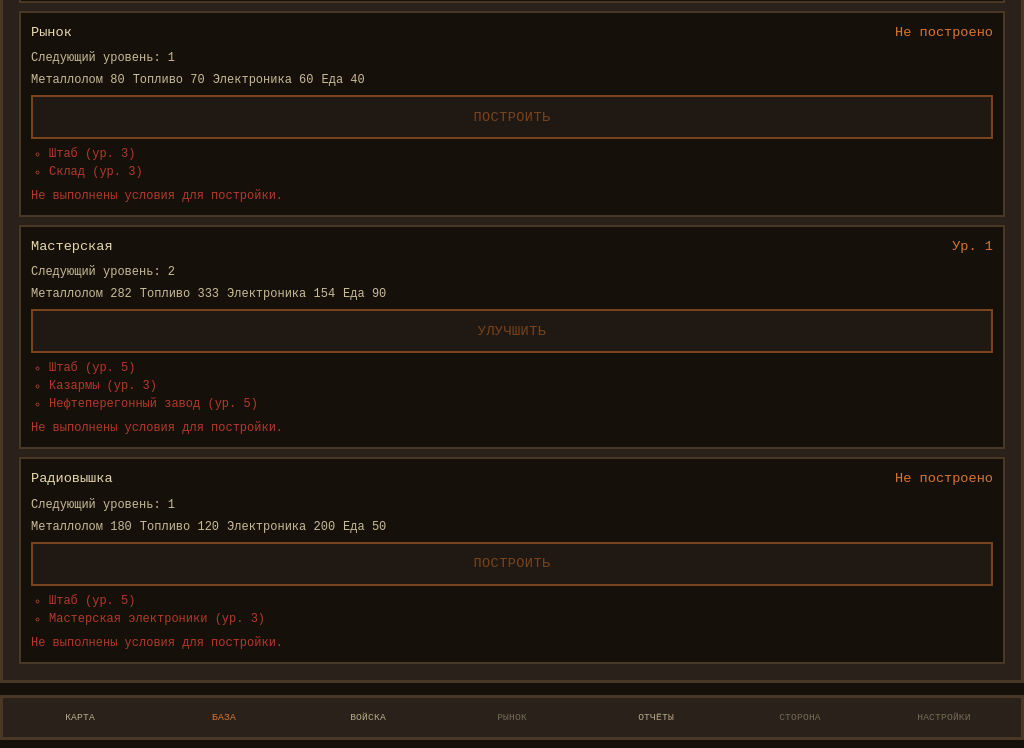
Test: UnitsScreen — roster › groups the roster by the three training buildings, showing only the caller faction plus the Settler, and never wildlife
This screenshot has width=1024, height=748.
(page scrolled)
Click the button "Войска".
click(368, 717)  # box [297,704,439,731]
(page scrolled)
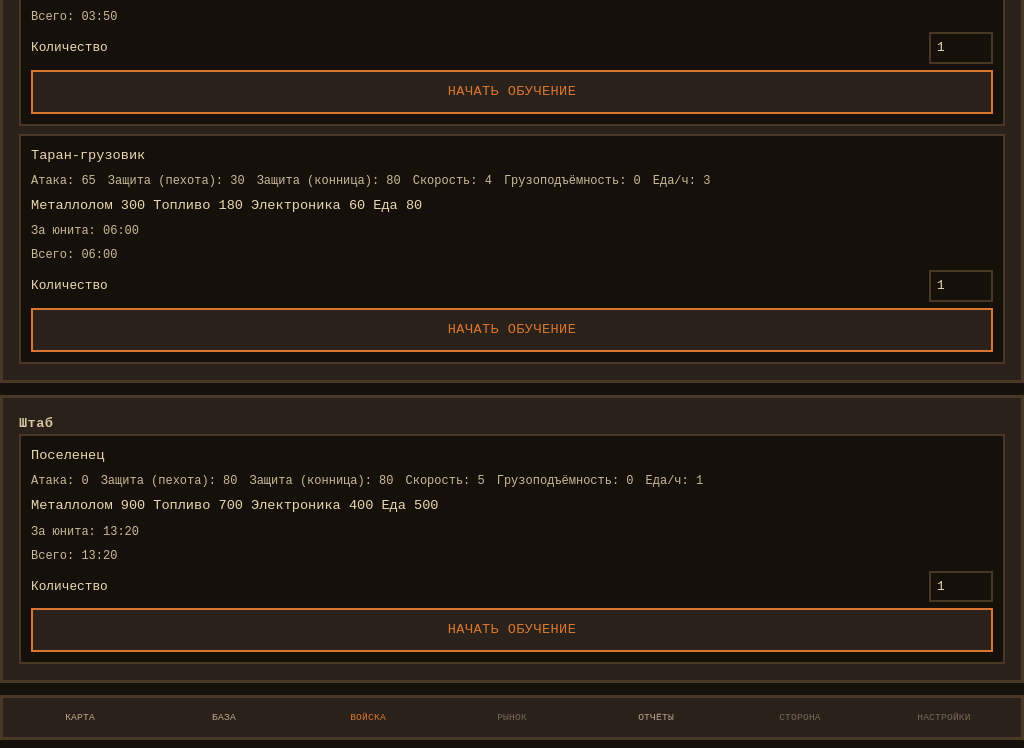
Expected: the text "Таран-грузовик" is shown, [31,146,145,166]
Expected: the text "Поселенец" is shown, [31,446,104,466]
